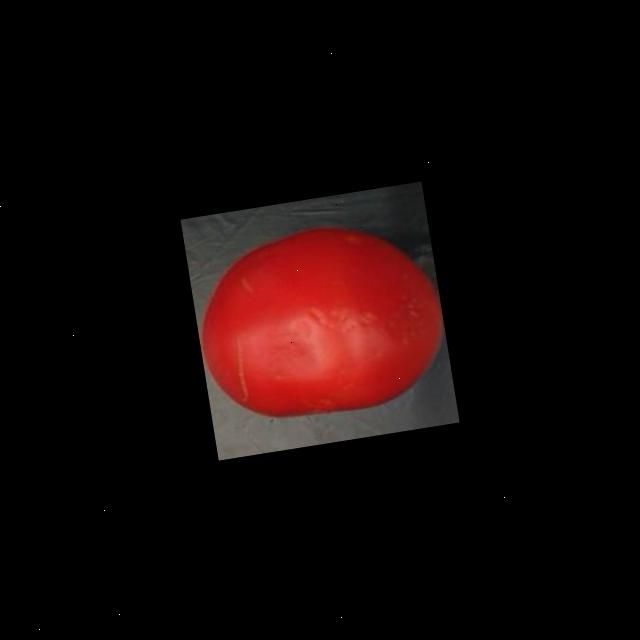tomato: (184, 208, 456, 440)
